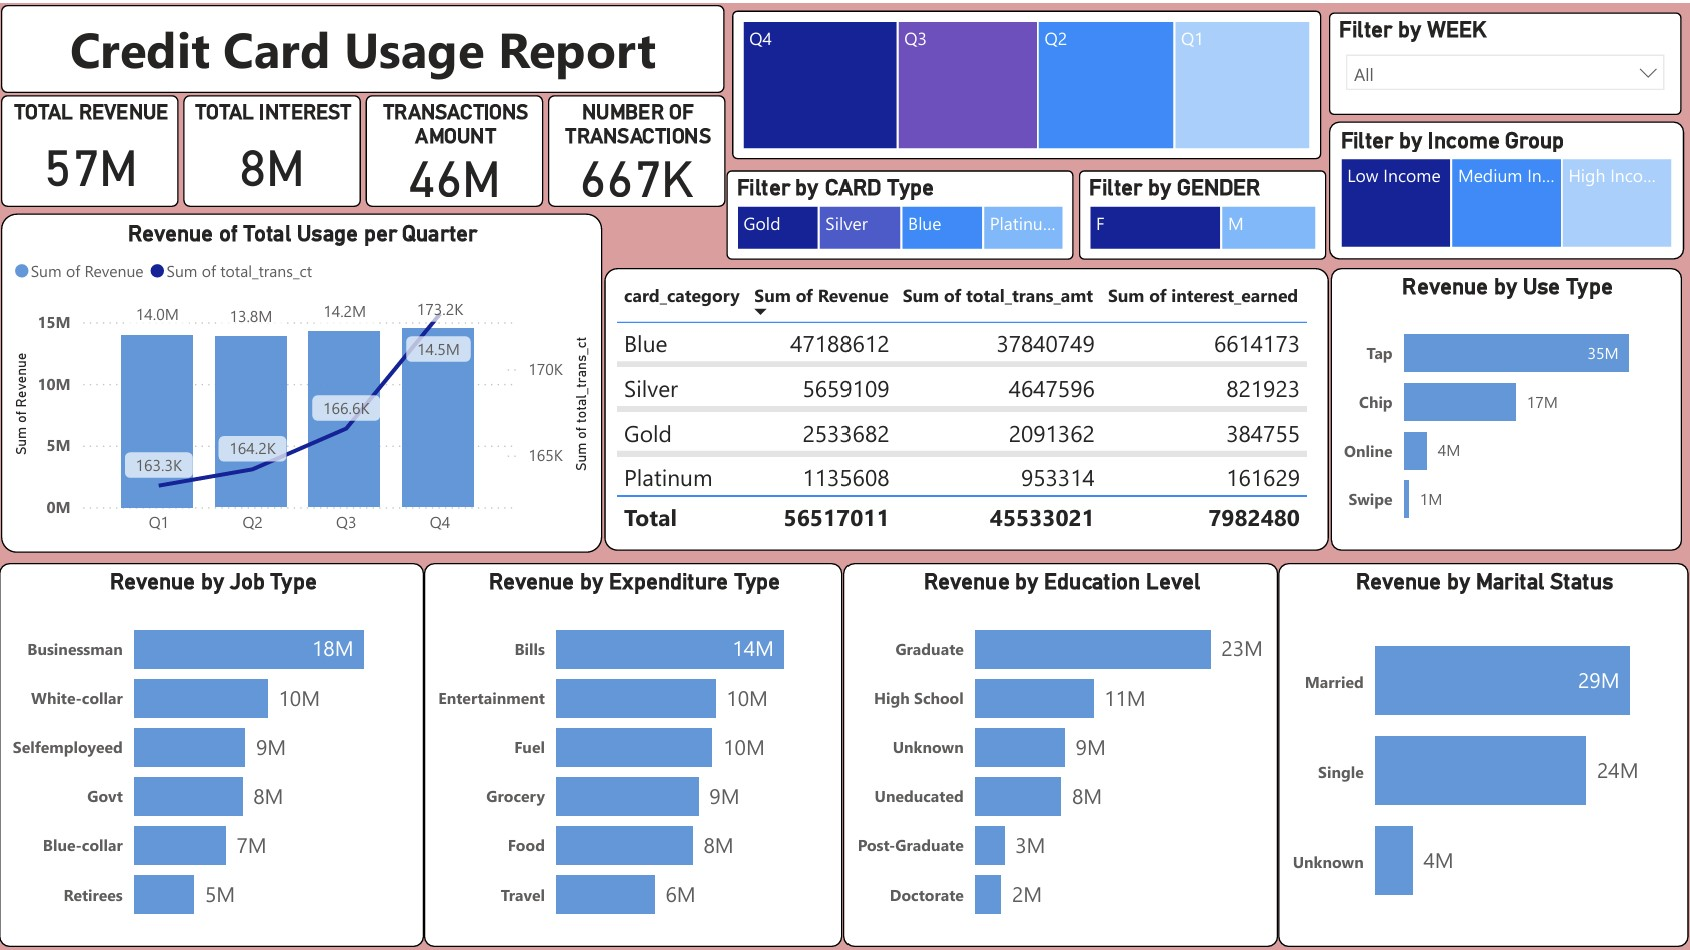

The page's visual inventory and layout, read from the dashboard file:
{"tool":"powerbi","page":{"name":"Weekly Report","canvas":[1280,720],"ordinal":1},"visuals":[{"type":"textbox","box":[1.7,1.7,550,66.7],"z":0},{"type":"lineStackedColumnComboChart","title":"Revenue of Total Usage per Quarter","fields":{"Category":["public credit_card_details.qtr"],"Y":["Sum(public credit_card_details.Revenue)"],"Y2":["Sum(public credit_card_details.total_trans_ct)"]},"box":[1.7,160,456.7,258.3],"z":1000},{"type":"barChart","title":"Revenue by Expenditure Type","fields":{"Y":["Sum(public credit_card_details.Revenue)"],"Category":["public credit_card_details.exp_type"]},"box":[323.3,425,318.3,291.7],"z":2000},{"type":"barChart","title":"Revenue by Education Level","fields":{"Y":["Sum(public credit_card_details.Revenue)"],"Category":["public cust_detail.education_level"]},"box":[641.7,425,330,291.7],"z":3000},{"type":"barChart","title":"Revenue by Job Type","fields":{"Y":["Sum(public credit_card_details.Revenue)"],"Category":["public cust_detail.customer_job"]},"box":[971.7,425,311.7,291.7],"z":4000},{"type":"barChart","title":"Revenue by Job Type","fields":{"Y":["Sum(public credit_card_details.Revenue)"],"Category":["public cust_detail.customer_job"]},"box":[0,425,323.3,291.7],"z":5000},{"type":"barChart","title":"Revenue by Use Type","fields":{"Y":["Sum(public credit_card_details.Revenue)"],"Category":["public credit_card_details.use_chip"]},"box":[1011.7,201.7,266.7,215],"z":6000},{"type":"tableEx","fields":{"Values":["public credit_card_details.card_category","Sum(public credit_card_details.Revenue)","Sum(public credit_card_details.total_trans_amt)","Sum(public credit_card_details.interest_earned)"]},"box":[458.3,201.7,550,215],"z":7000},{"type":"card","title":"TOTAL REVENUE","fields":{"Values":["Sum(public credit_card_details.Revenue)"]},"box":[1.7,70,135,85],"z":8000},{"type":"card","title":"TRANSACTIONS AMOUNT","fields":{"Values":["Sum(public credit_card_details.total_trans_amt)"]},"box":[278.3,70,135,85],"z":9000},{"type":"card","title":"TOTAL INTEREST","fields":{"Values":["Sum(public credit_card_details.interest_earned)"]},"box":[140,70,135,85],"z":10000},{"type":"card","title":"NUMBER OF TRANSACTIONS","fields":{"Values":["Sum(public credit_card_details.total_trans_ct)"]},"box":[416.7,70,135,85],"z":11000},{"type":"slicer","title":"Filter by WEEK","fields":{"Values":["public credit_card_details.week_start_date"]},"box":[1010,6.7,268.3,78.3],"z":12000},{"type":"treemap","fields":{"Group":["public credit_card_details.qtr"],"Values":["Avg(public credit_card_details.client_num)"]},"box":[556.7,5,446.7,113.3],"z":13000},{"type":"treemap","title":"Filter by GENDER","fields":{"Group":["public cust_detail.gender"],"Values":["CountNonNull(public credit_card_details.client_num)"]},"box":[820,126.7,188.3,68.3],"z":14000},{"type":"treemap","title":"Filter by CARD Type","fields":{"Group":["public credit_card_details.card_category"],"Values":["Avg(public credit_card_details.client_num)"]},"box":[553.3,126.7,263.3,68.3],"z":15000},{"type":"treemap","title":"Filter by Income Group","fields":{"Group":["public cust_detail.Income_Group"],"Values":["Avg(public credit_card_details.client_num)"]},"box":[1010,90,270,105],"z":16000}]}

Visuals, with their boxes in screenshot pixels (x1, y1, x2, y2), scaled from the page's 1280x720 canvas onto the 1690x950 screenshot:
textbox: select_region(2, 2, 728, 90)
"Revenue of Total Usage per Quarter" lineStackedColumnComboChart: select_region(2, 211, 605, 552)
"Revenue by Expenditure Type" barChart: select_region(427, 561, 847, 946)
"Revenue by Education Level" barChart: select_region(847, 561, 1283, 946)
"Revenue by Job Type" barChart: select_region(1283, 561, 1689, 946)
"Revenue by Job Type" barChart: select_region(0, 561, 427, 946)
"Revenue by Use Type" barChart: select_region(1336, 266, 1688, 550)
tableEx - public credit_card_details.card_category x Sum(public credit_card_details.Revenue): select_region(605, 266, 1331, 550)
"TOTAL REVENUE" card: select_region(2, 92, 180, 205)
"TRANSACTIONS AMOUNT" card: select_region(367, 92, 546, 205)
"TOTAL INTEREST" card: select_region(185, 92, 363, 205)
"NUMBER OF TRANSACTIONS" card: select_region(550, 92, 728, 205)
"Filter by WEEK" slicer: select_region(1334, 9, 1688, 112)
treemap - public credit_card_details.qtr x Avg(public credit_card_details.client_num): select_region(735, 7, 1325, 156)
"Filter by GENDER" treemap: select_region(1083, 167, 1331, 257)
"Filter by CARD Type" treemap: select_region(731, 167, 1078, 257)
"Filter by Income Group" treemap: select_region(1334, 119, 1689, 257)
